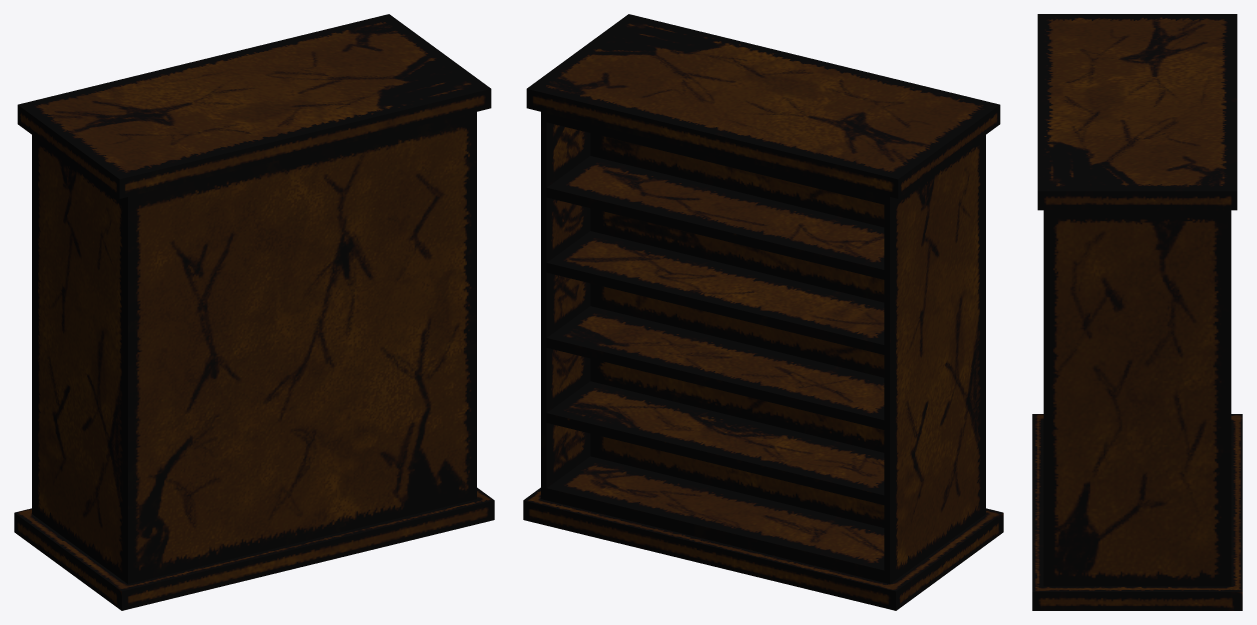
The model's file is Prateleira.fbx.
3 renders of one model, left to right at view 1: azimuth 30°, elevation 25°; view 2: azimuth 150°, elevation 25°; view 3: azimuth 270°, elevation 25°, orthographic. The views are drawn at different scales.
Parts seen in each view (by area): view 1: Prateleira; view 2: Prateleira; view 3: Prateleira.
Part boxes in pixels (x1=…): Prateleira: x1=14, y1=14, x2=494, y2=610; Prateleira: x1=523, y1=14, x2=1003, y2=610; Prateleira: x1=1032, y1=14, x2=1242, y2=610.
Bounding box in the file's own units: 200 × 220 × 100.
Materials: 1 (1 with a texture image).
